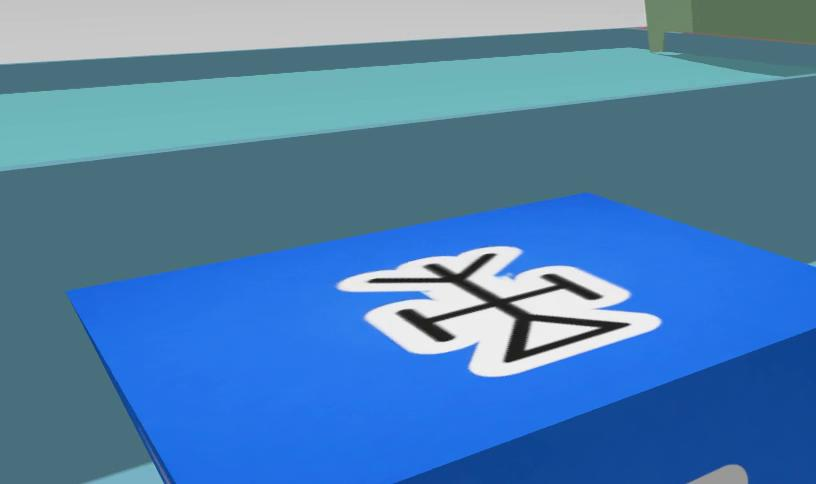KFS_REAL: (65, 194, 816, 484), (336, 246, 660, 376), (684, 465, 748, 484)
